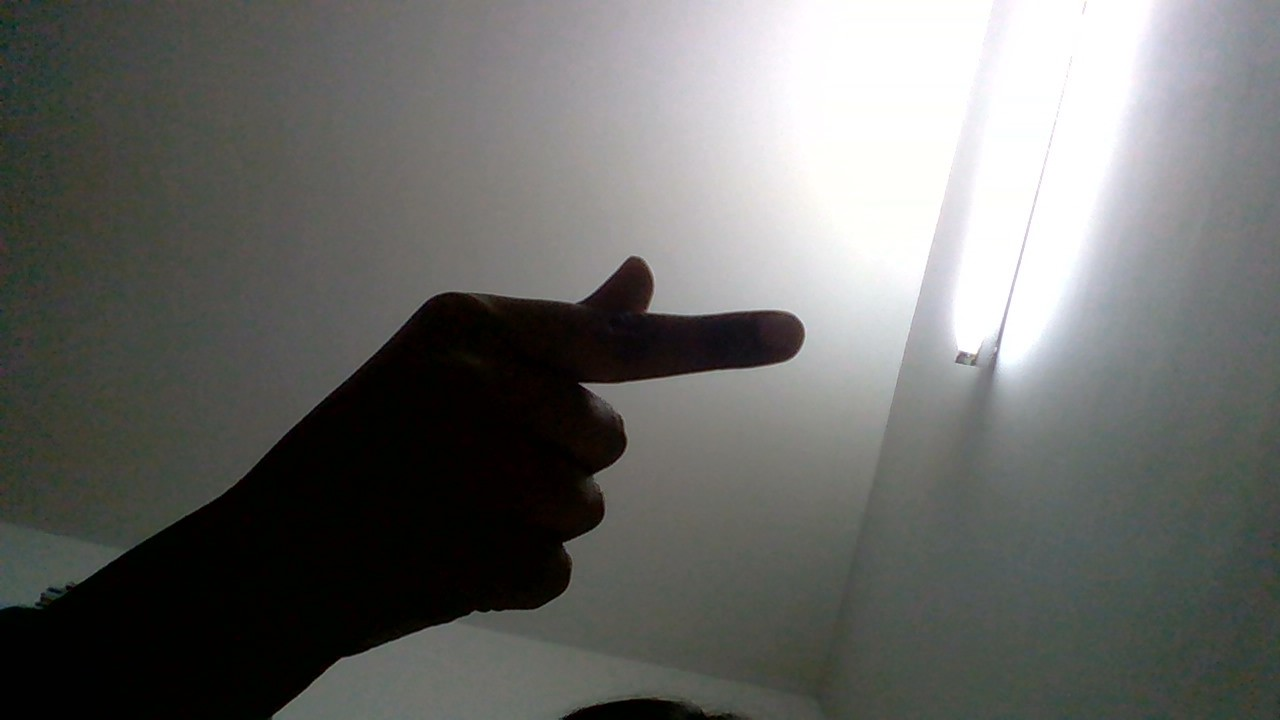g: (122, 227, 825, 669)
